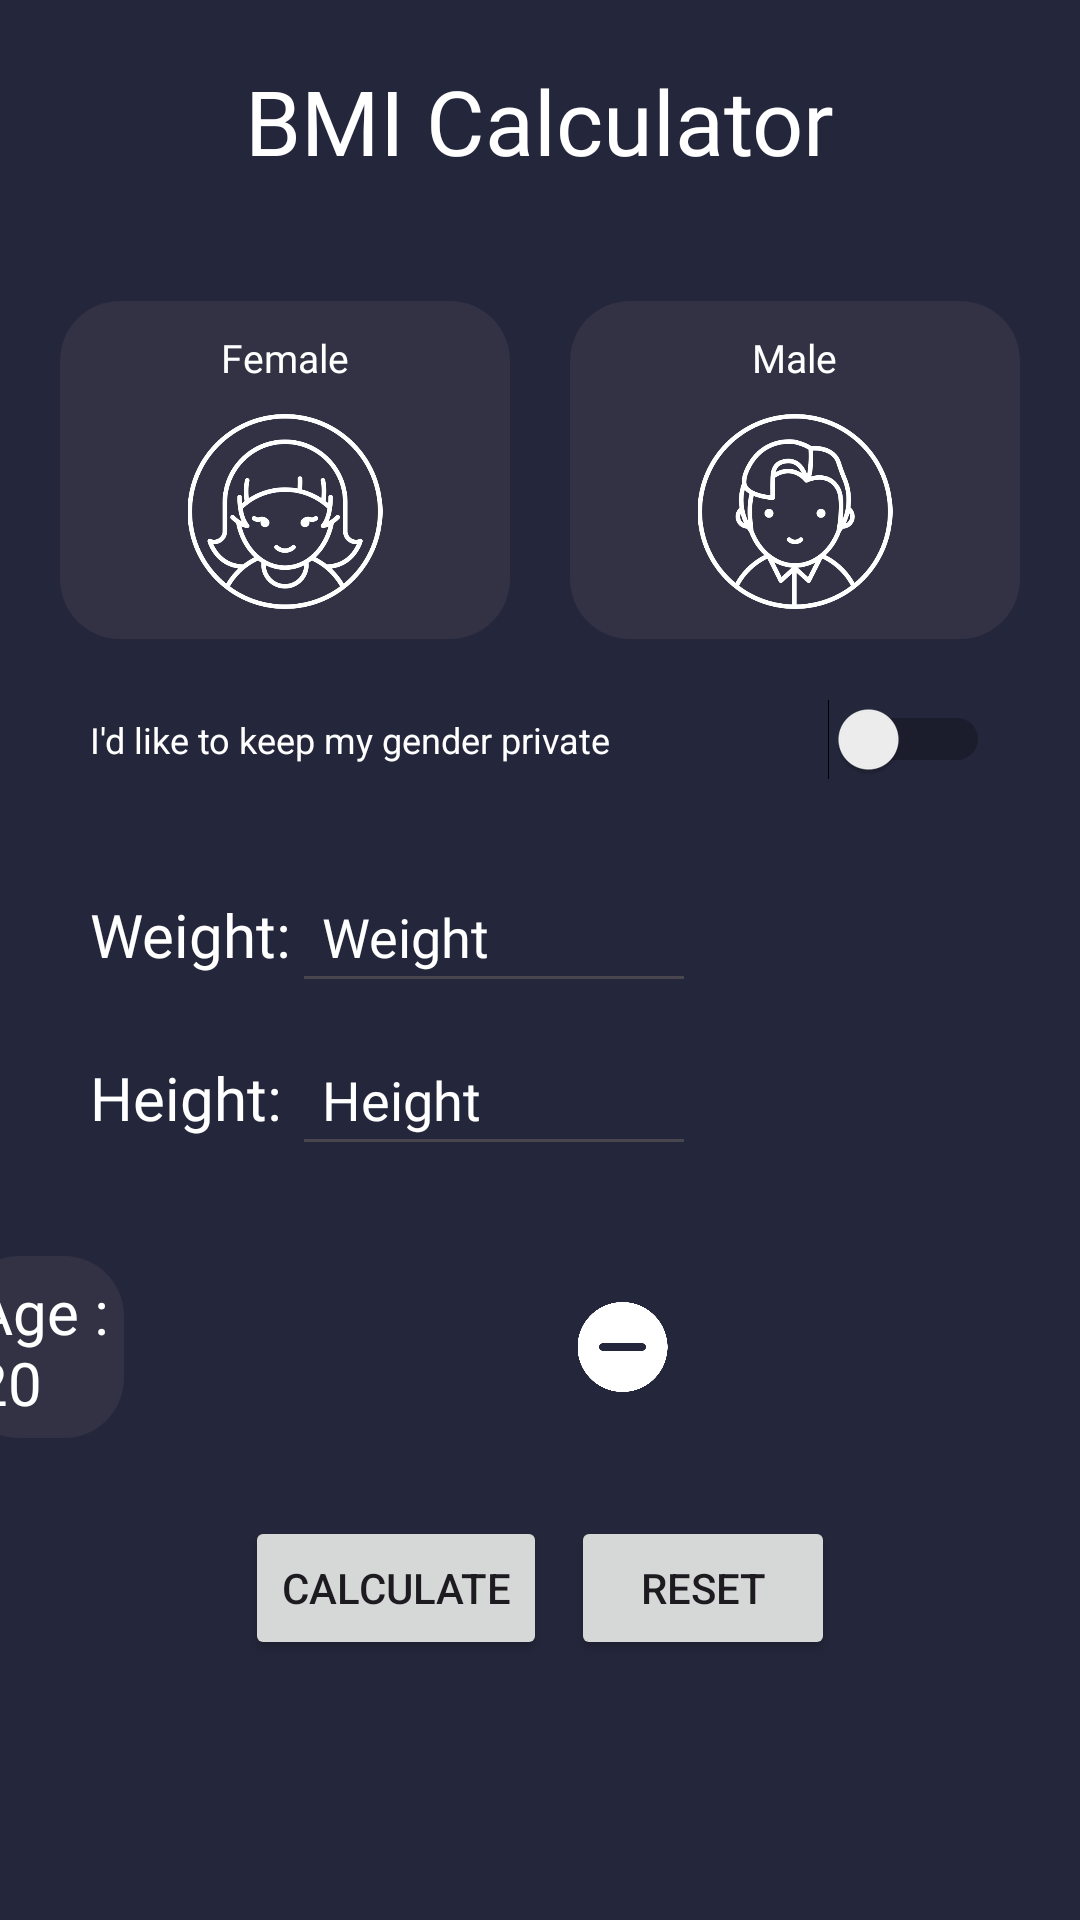

Named icons in this screenshot (1080×1920) and their centers, [x,y]:
minus: [623,1347]
